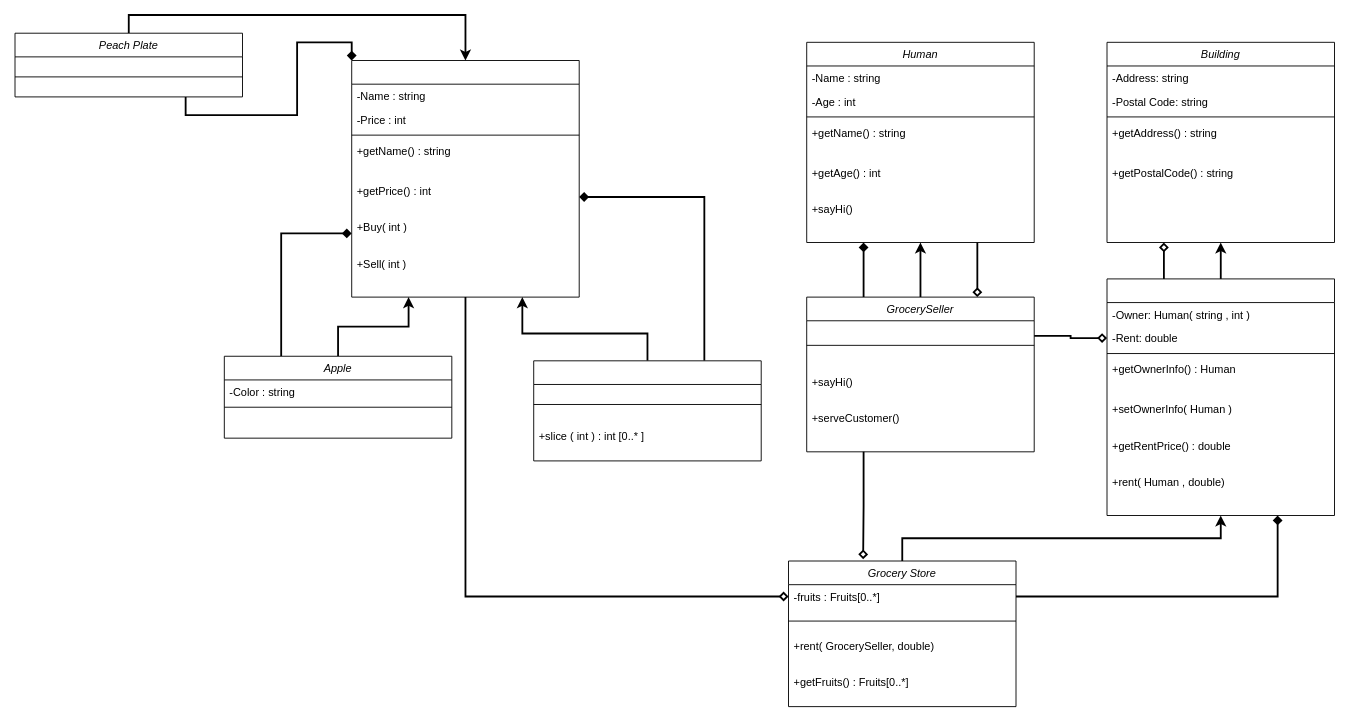
The diagram is 1350 pixels wide and 722 high, and some of its shapes have lost their labels. Each missing label, with the box of its shape:
Fruits: (351, 60, 579, 297)
Store: (1106, 278, 1335, 516)
Watermelon: (533, 360, 761, 461)
